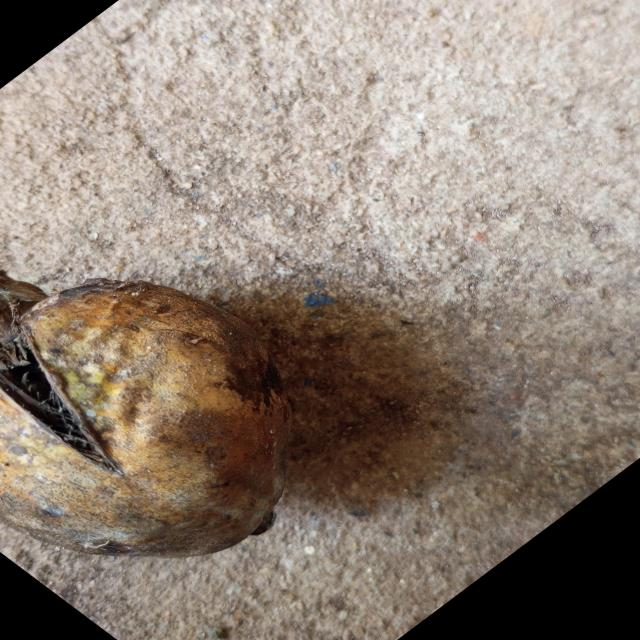damaged: (0, 279, 290, 557)
